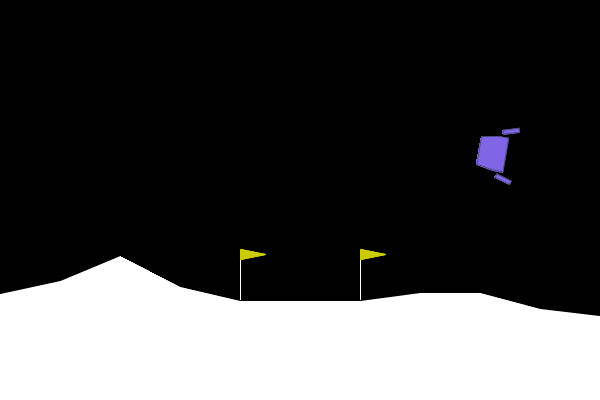lander: (472, 121, 521, 187)
